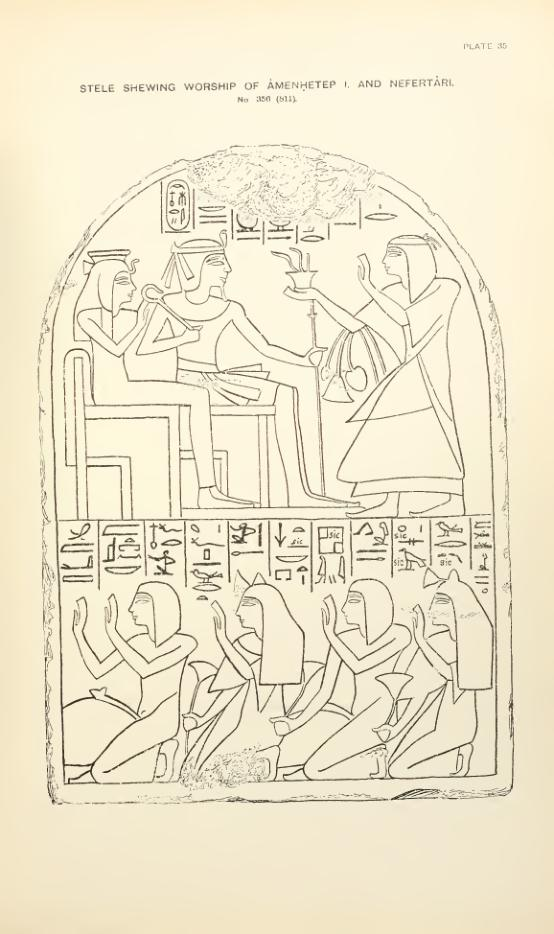circle: (163, 178, 194, 237), (234, 204, 263, 236), (267, 210, 294, 234)
